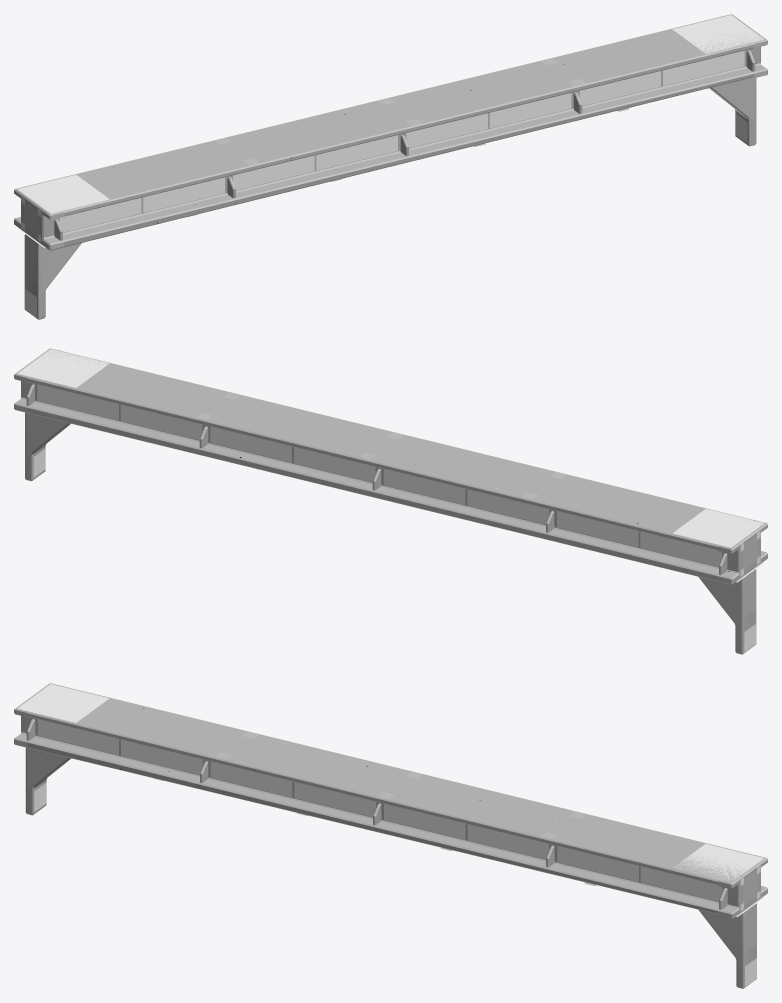
Rendered from SM_Balk_1_Merged.fbx.
3 renders of one model, top to bottom at view 1: azimuth 30°, elevation 25°; view 2: azimuth 150°, elevation 25°; view 3: azimuth 330°, elevation 25°, orthographic.
Parts seen in each view (by area): view 1: SM_Balk_1_Merged_LOD0; view 2: SM_Balk_1_Merged_LOD0; view 3: SM_Balk_1_Merged_LOD0.
Part boxes in pixels (box(x1,y1,x2,y2)): SM_Balk_1_Merged_LOD0: box(14, 14, 767, 319); SM_Balk_1_Merged_LOD0: box(14, 348, 767, 654); SM_Balk_1_Merged_LOD0: box(14, 683, 767, 988).
Bounding box in the file's own units: 400 × 35.01 × 60.74.
